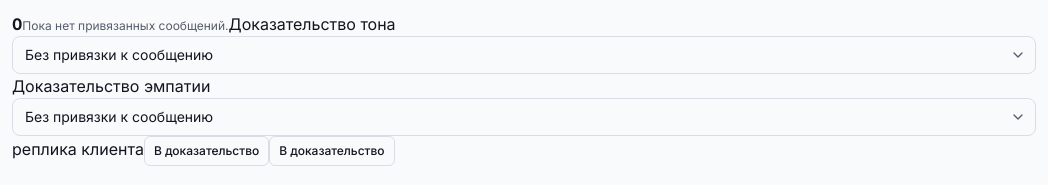
Test: evidence draft state › keeps a focused criterion when the reviewer already picked that field
Click the 1st button "В доказательство" at x=207, y=151, box [144,136,269,166]
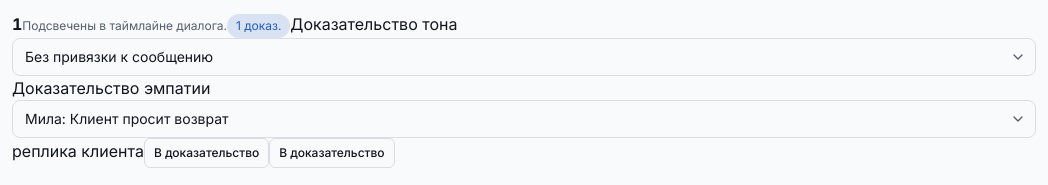
Expected: the dropdown labelled "Доказательство тона" shows "Без привязки к сообщению", [12,38,1036,76]
Result: the dropdown labelled "Доказательство эмпатии" shows "Мила: Клиент просит возврат" at [12,100,1036,138]
Result: the text "1" is shown at [12,14,22,34]
